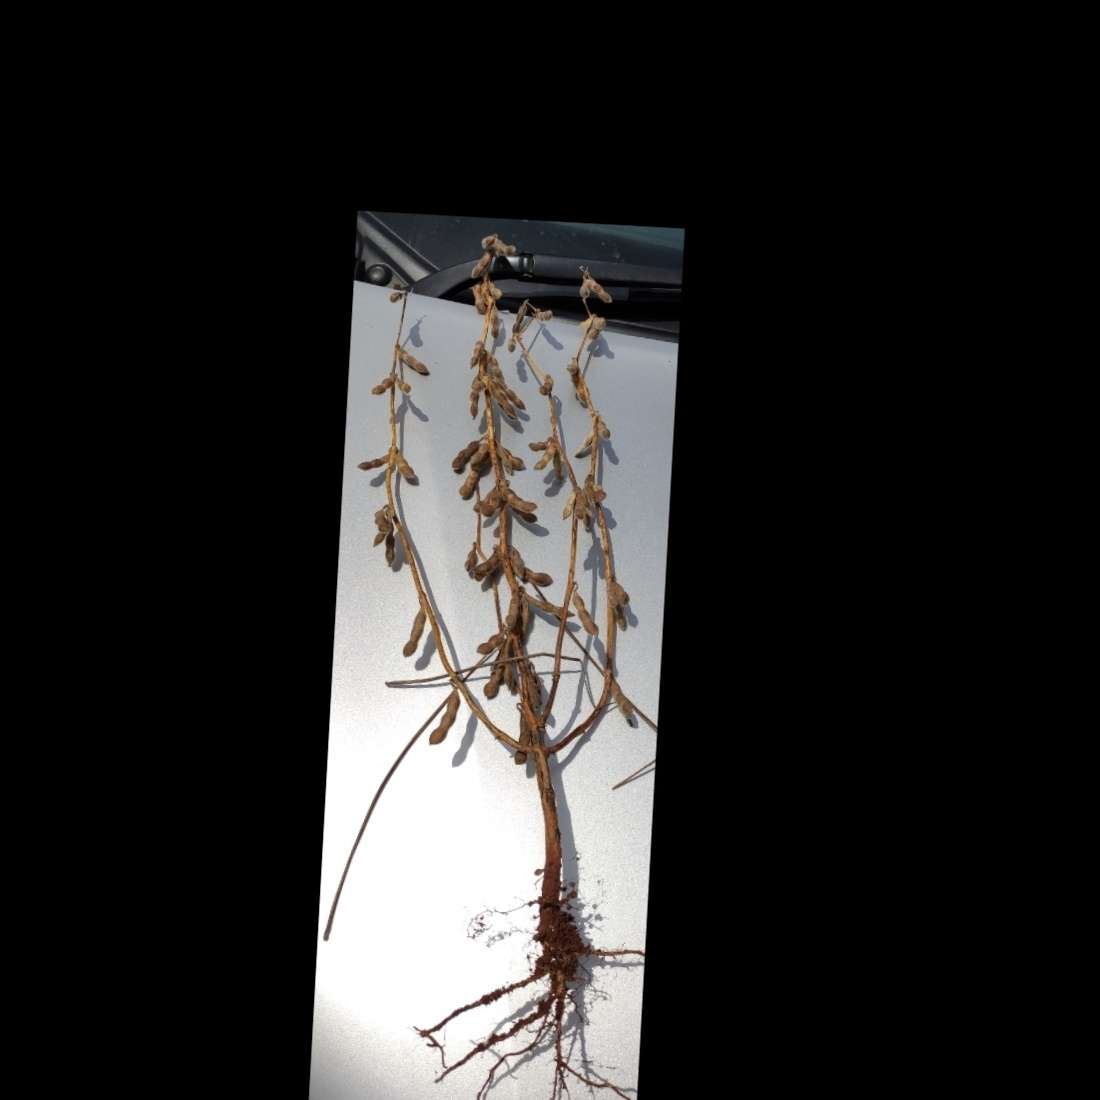pod: (424, 688, 463, 751), (396, 605, 428, 661), (569, 587, 604, 637), (396, 345, 437, 379), (448, 434, 483, 472), (488, 382, 520, 422), (608, 676, 637, 721), (475, 626, 510, 657), (471, 547, 506, 577), (351, 448, 391, 473), (530, 438, 557, 474), (364, 371, 394, 401), (468, 247, 494, 281), (488, 299, 508, 341), (584, 277, 615, 304), (508, 299, 529, 337), (611, 576, 636, 606)
soy: (316, 212, 664, 1070)
